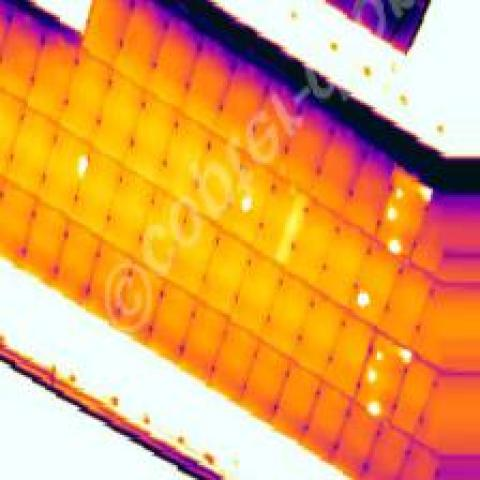fault: (394, 343, 416, 371), (351, 289, 375, 313), (414, 182, 435, 208), (73, 152, 90, 180), (386, 234, 405, 259), (364, 401, 386, 422), (238, 193, 255, 216), (390, 186, 409, 204), (384, 203, 400, 223), (366, 366, 380, 386), (371, 350, 388, 364)
